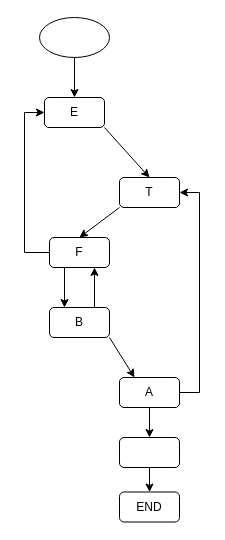
The diagram is 225 pixels wide and 540 high, and some of its shapes have lost their labels. The shapes that lost their labels are listed below. From the top down, each one's centre as x and y in pixels, then its label:
At (74,37): "START".
At (149,452): "E_END".
